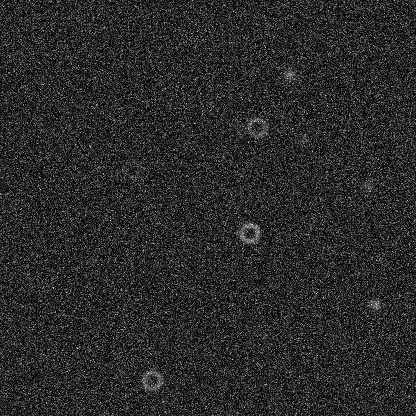Ring: (140, 368, 164, 392), (245, 115, 269, 139), (237, 220, 261, 244), (119, 157, 143, 181)
Spot: (229, 118, 245, 134), (359, 178, 375, 194), (294, 133, 310, 149), (367, 296, 383, 312), (281, 66, 297, 82)
